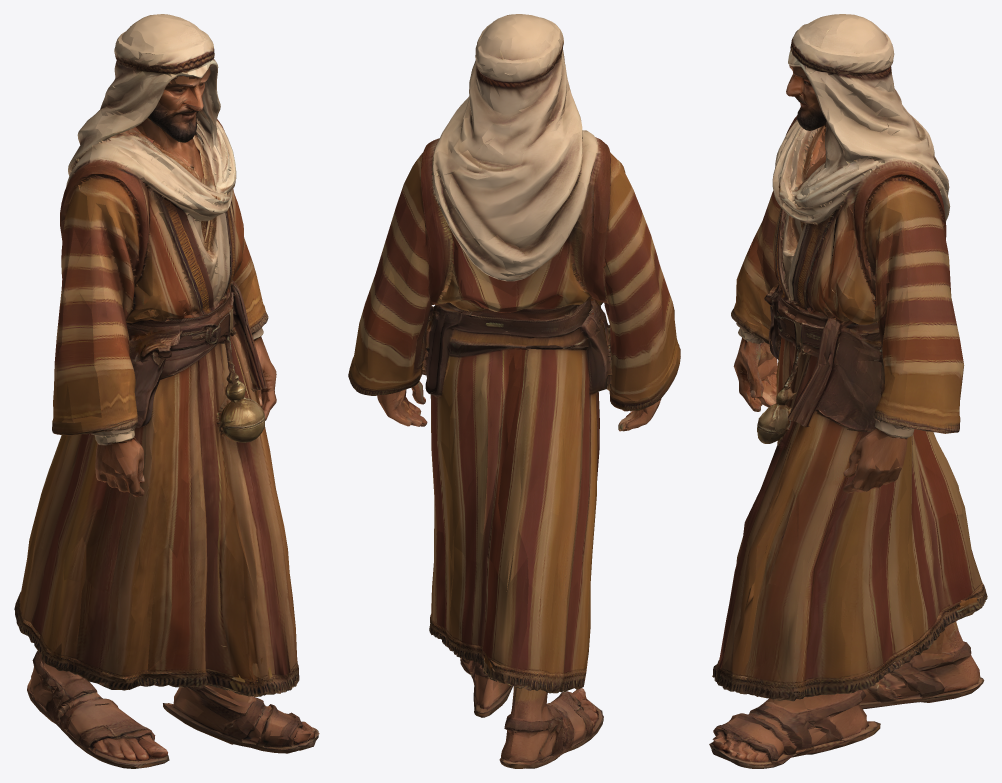
Rendered from traveler-stride.glb.
3 views of the same model, side by side, from view 1: azimuth 30°, elevation 25°; view 2: azimuth 150°, elevation 25°; view 3: azimuth 270°, elevation 25° (orthographic). The views are drawn at different scales.
Visible parts, largest first — view 1: traveler; view 2: traveler; view 3: traveler.
Boxes of the visible parts, x1,y1,x2,y2 form: traveler: (14,14,319,768); traveler: (348,14,680,768); traveler: (709,14,987,768).
Bounding box in the file's own units: 0.6312 × 1.68 × 0.5959.
Materials: 1 (1 with a texture image).
